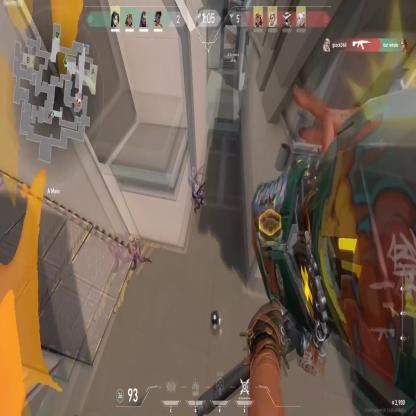enemy: (126, 234, 154, 272), (190, 182, 204, 214)
enemy_head: (128, 235, 136, 244), (194, 183, 198, 191)
